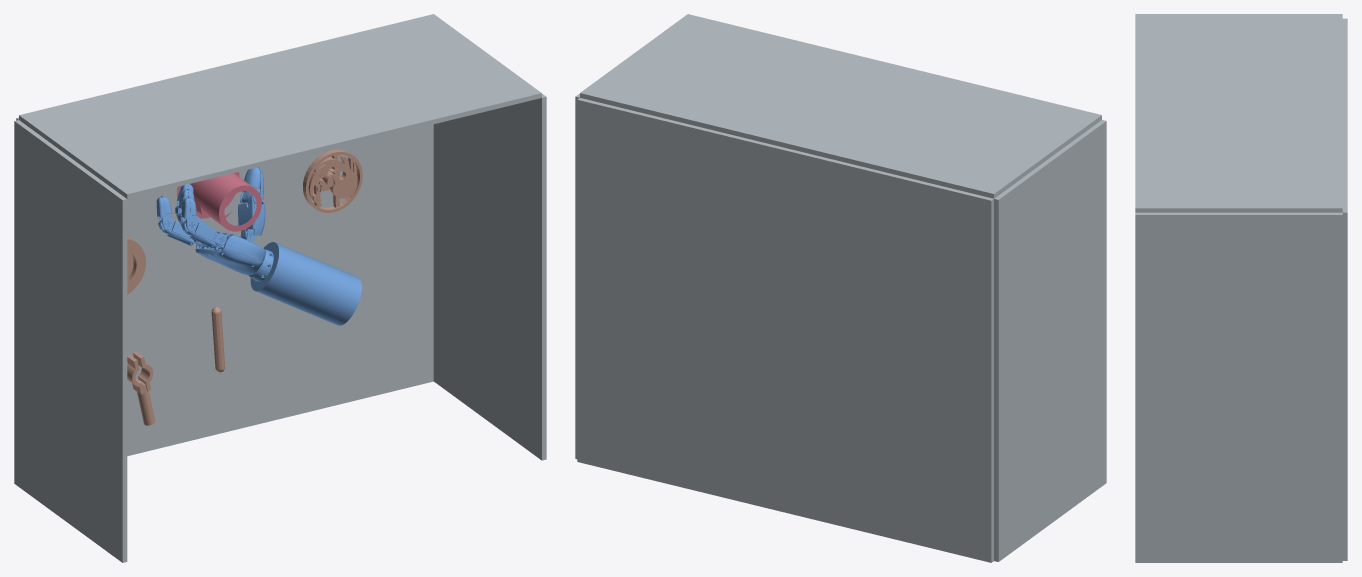
3 views of the same model, side by side, from view 1: azimuth 30°, elevation 25°; view 2: azimuth 150°, elevation 25°; view 3: azimuth 270°, elevation 25° (orthographic). The views are drawn at different scales.
Visible parts, largest first — view 1: environment, hand, obstacle_000, world, obstacle_003, obstacle_001, obstacle_002; view 2: environment; view 3: environment.
Boxes of the visible parts, x1,y1,x2,y2 form: environment: [14, 14, 546, 562]; hand: [156, 167, 361, 325]; obstacle_000: [303, 149, 362, 212]; world: [177, 172, 261, 231]; obstacle_003: [127, 351, 155, 425]; obstacle_001: [127, 236, 145, 294]; obstacle_002: [211, 307, 224, 372]; environment: [575, 14, 1106, 562]; environment: [1135, 14, 1347, 562].
Size of the model in its own units: 0.7449 by 0.6171 by 0.3371.
